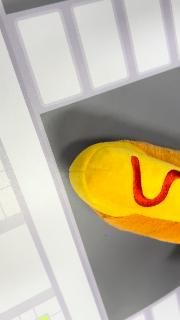hotdog: (68, 139, 180, 245)
